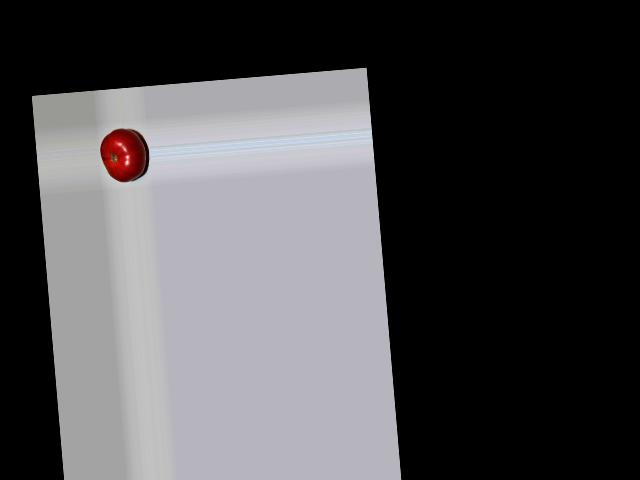tomato: (98, 126, 147, 184)
